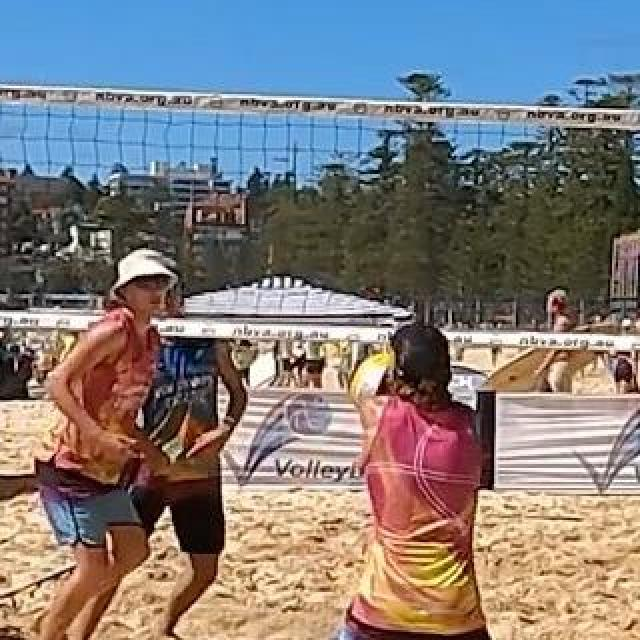volleyball: (347, 351, 415, 419)
